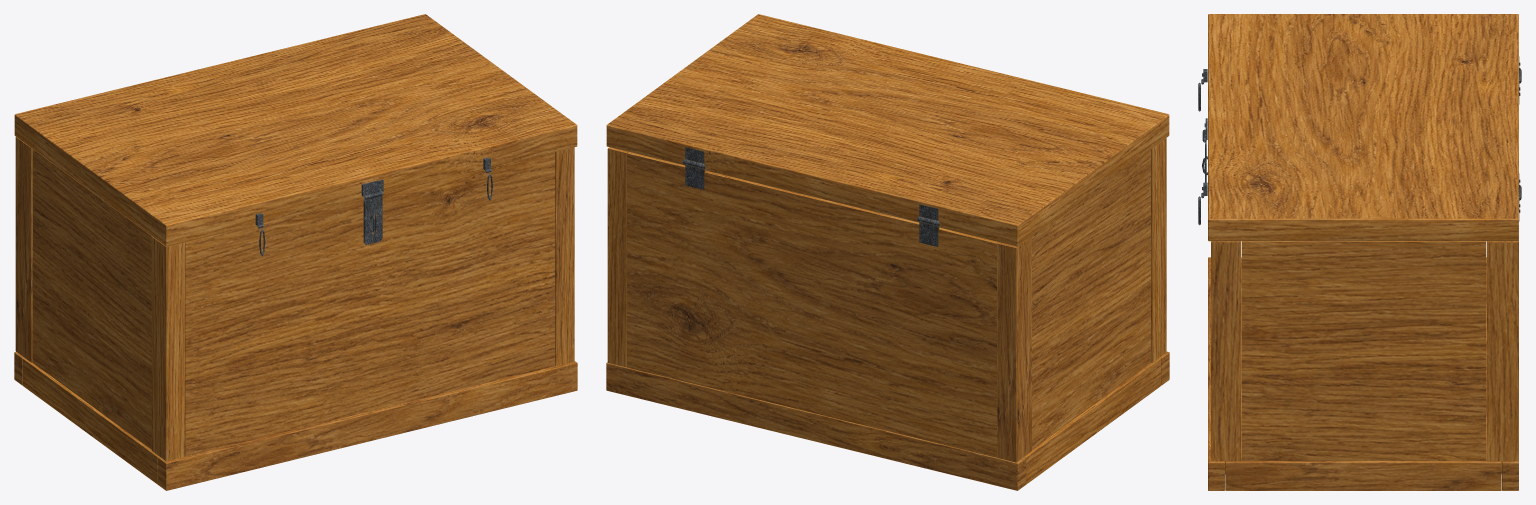
File: chest.glb
3 views of the same model, side by side, from view 1: azimuth 30°, elevation 25°; view 2: azimuth 150°, elevation 25°; view 3: azimuth 270°, elevation 25° (orthographic). The views are drawn at different scales.
Parts seen in each view (by area): view 1: chest; view 2: chest; view 3: chest.
Boxes of the visible parts, left/top/right/bottom form: chest: left=14, top=14, right=577, bottom=490; chest: left=606, top=14, right=1169, bottom=490; chest: left=1198, top=14, right=1521, bottom=490.
Bounding box in the file's own units: 1.22 × 0.75 × 0.8075.
1 material, 1 textured.
